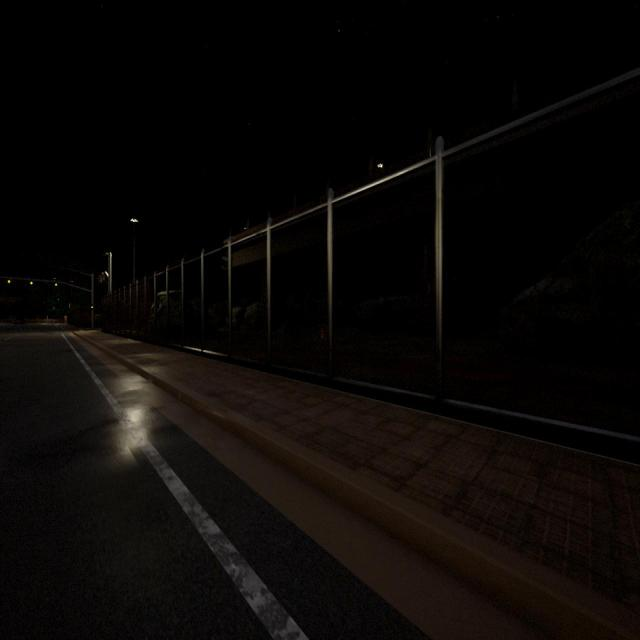traffic_light: (7, 278, 11, 286), (30, 280, 33, 287), (91, 304, 93, 311), (55, 281, 57, 288)
